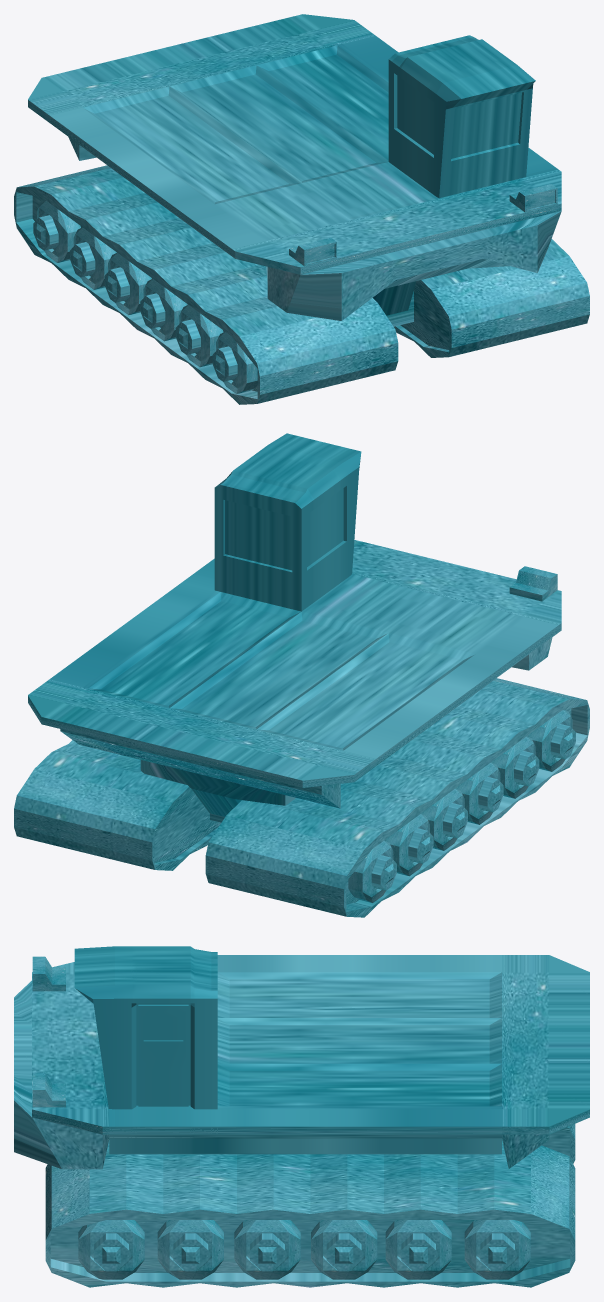
The picture shows the model from 3 angles, top to bottom: view 1: azimuth 30°, elevation 25°; view 2: azimuth 150°, elevation 25°; view 3: azimuth 270°, elevation 25°; orthographic projection. The views are drawn at different scales.
Parts seen in each view (by area): view 1: Platformcar; view 2: Platformcar; view 3: Platformcar.
Part boxes in pixels (x1,y1,x2,y2): Platformcar: [14, 14, 589, 404]; Platformcar: [14, 433, 589, 917]; Platformcar: [14, 946, 589, 1287].
Size of the model in its own units: 21.6 by 15.26 by 28.37.
6 materials, 6 textured.
